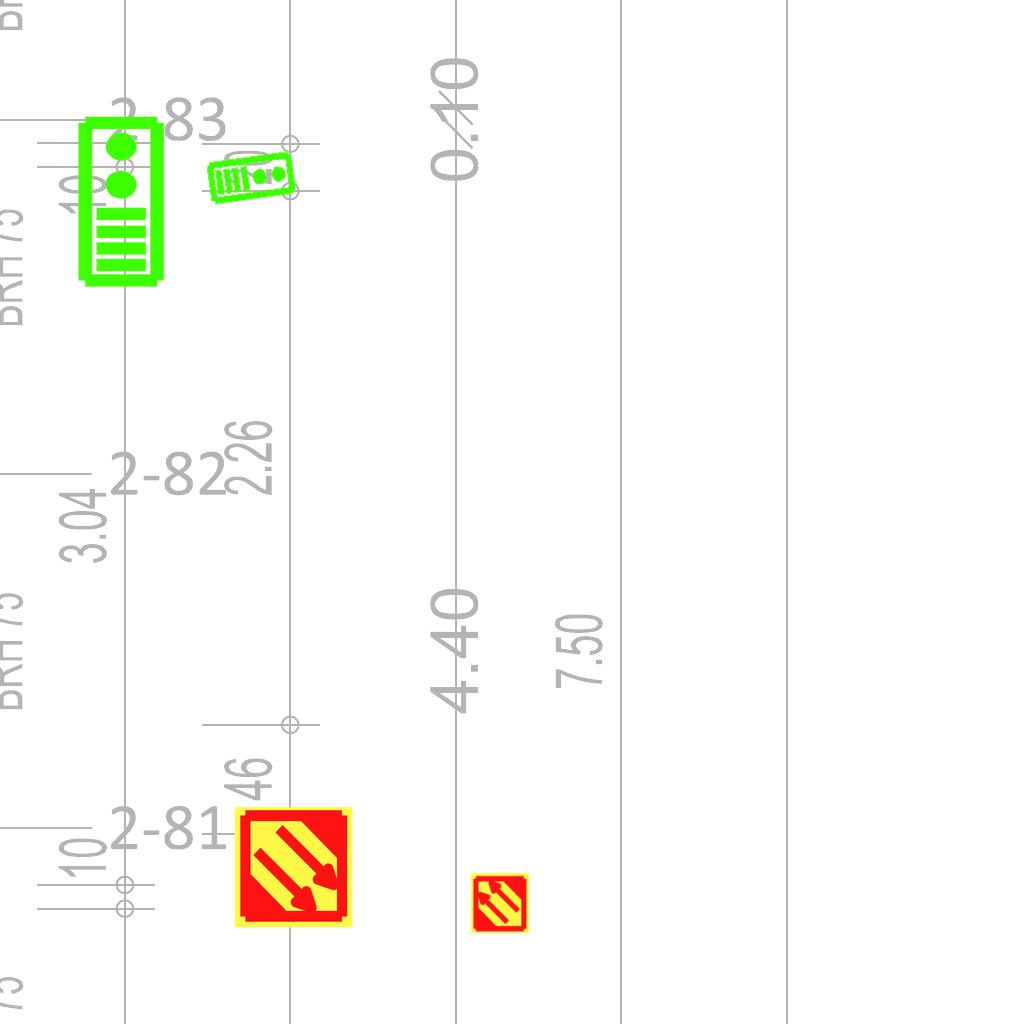ASR_Ansaugrauchmelder: (231, 805, 356, 930), (469, 872, 531, 934)
Gegensprechanlage_mit_Video: (72, 113, 167, 289), (204, 147, 299, 207)
